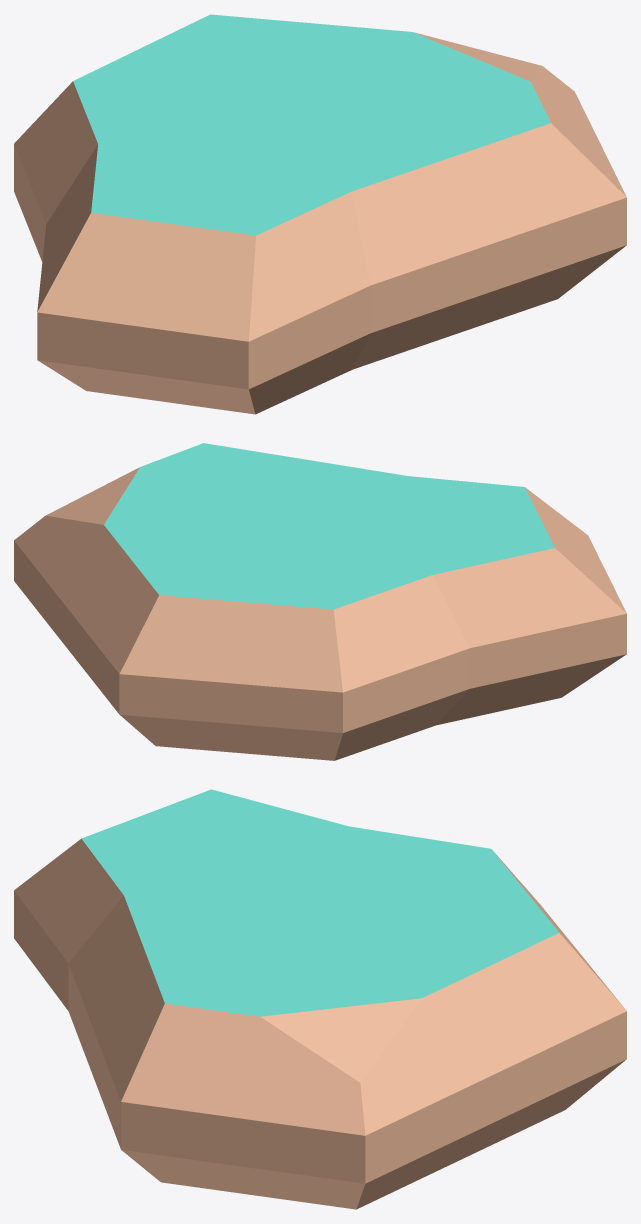
The model's file is rock_largeE.glb.
3 views of the same model, one above another, from view 1: azimuth 30°, elevation 25°; view 2: azimuth 150°, elevation 25°; view 3: azimuth 270°, elevation 25° (orthographic). The views are drawn at different scales.
Visible parts, largest first — view 1: rock_largeE; view 2: rock_largeE; view 3: rock_largeE.
Boxes of the visible parts, box(x1,y1,x2,y2) form: rock_largeE: box(14, 14, 626, 414); rock_largeE: box(14, 443, 626, 760); rock_largeE: box(14, 789, 626, 1209).
Size of the model in its own units: 1.1 by 0.2922 by 0.9199.
1 material, 1 textured.
